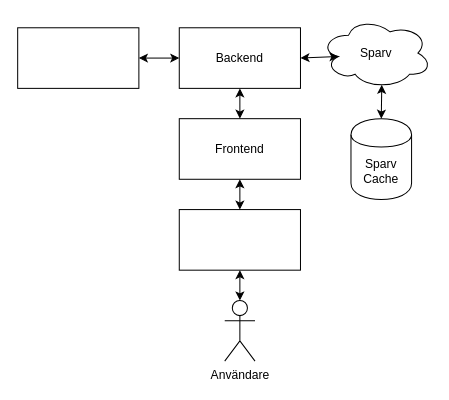
Some shapes in this 449 by 400 pixel diagram are drawn without their labels. The shapes that lost their labels are listed below. From the top down, each one's box as (x1, y1, x2, y2) in pixels, then its label:
(17, 27, 139, 88): Stava
(178, 209, 300, 270): Webbläsare
